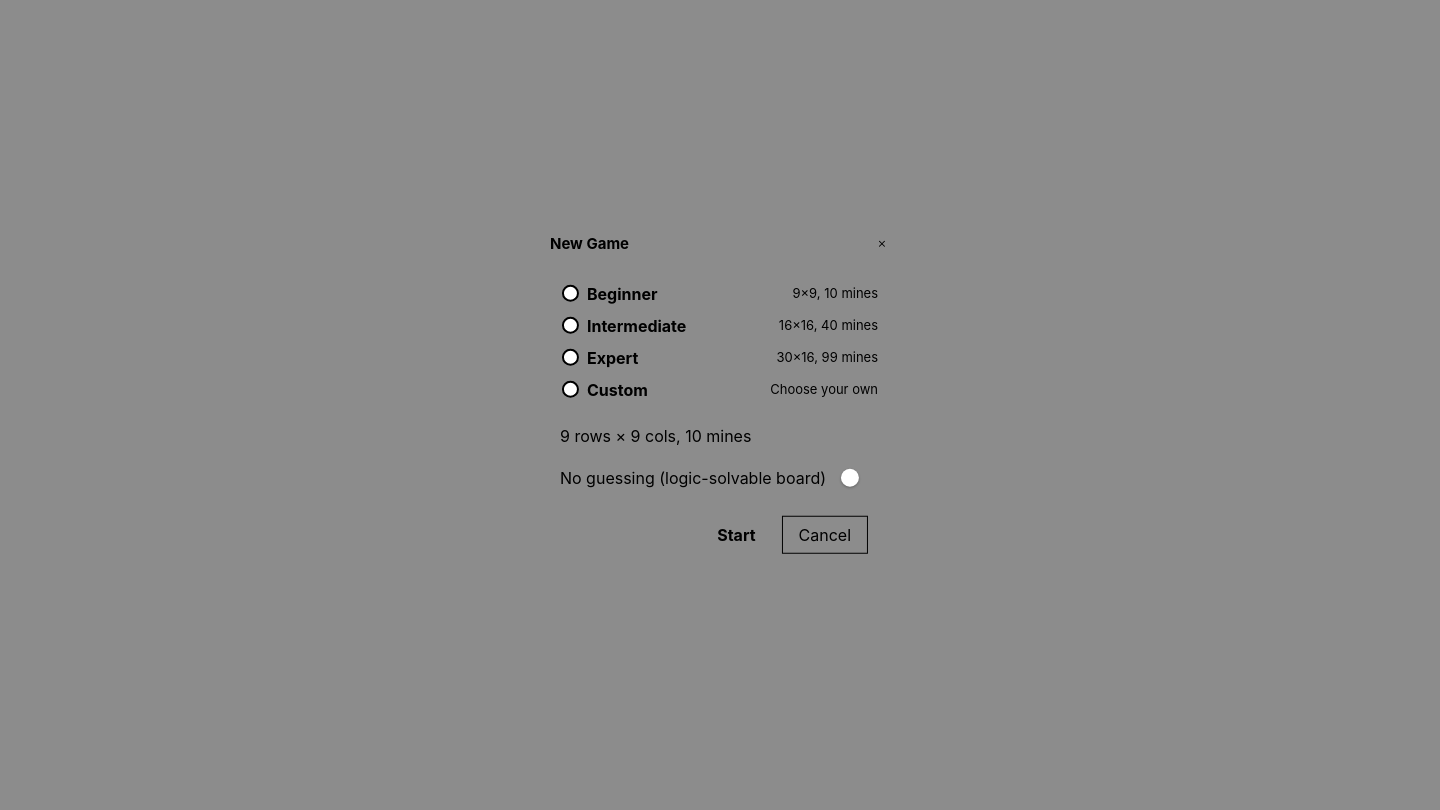
Test: NewGameModal › shows custom inputs when Custom preset is selected
Click the radio button named "custom" next to "Custom". click: (570, 389)
box: [562,381,579,398]
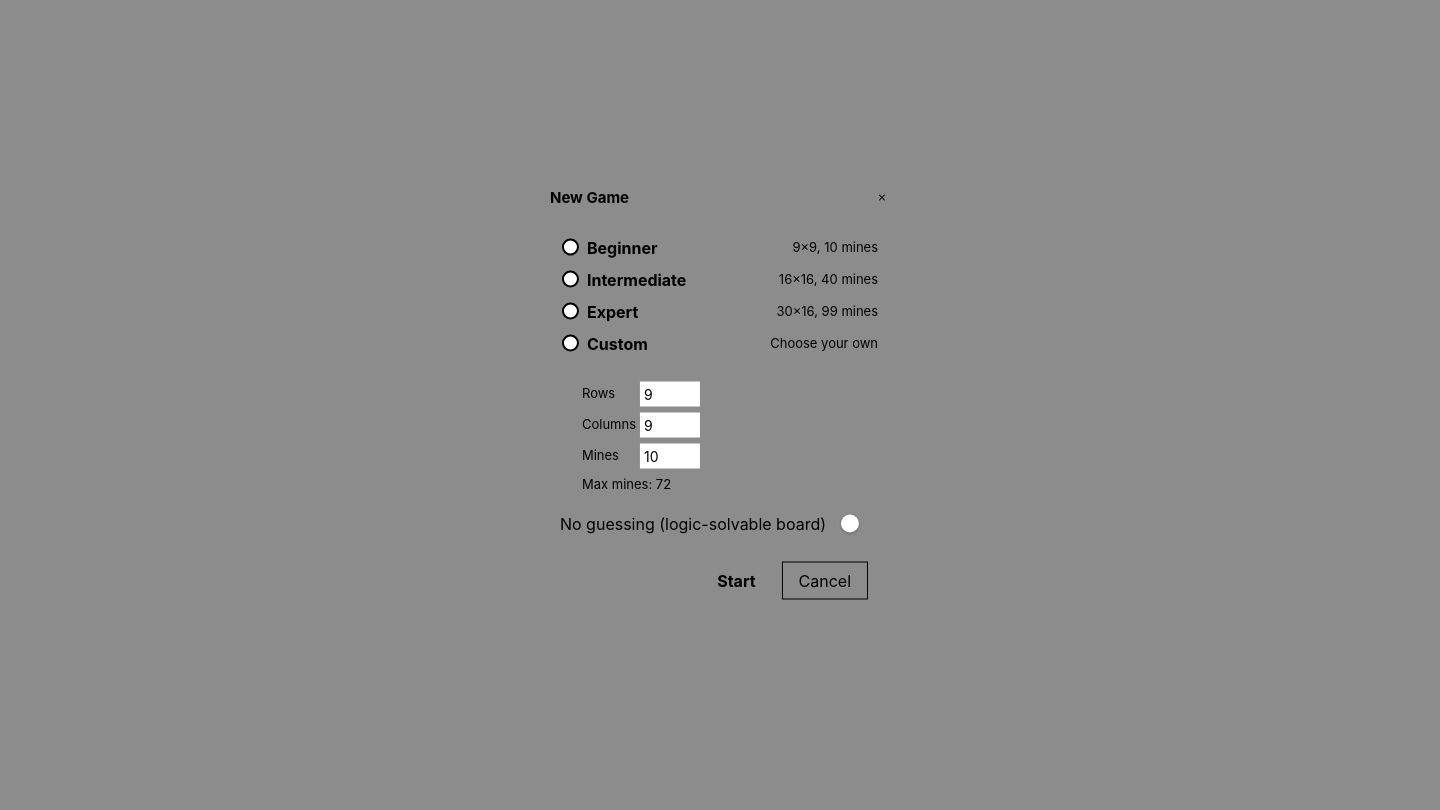
Now the number field labelled "Rows" is shown, box [640,381,700,406]
Now the number field labelled "Columns" is shown, box [640,412,700,437]
Now the number field labelled "Mines" is shown, box [640,443,700,468]
